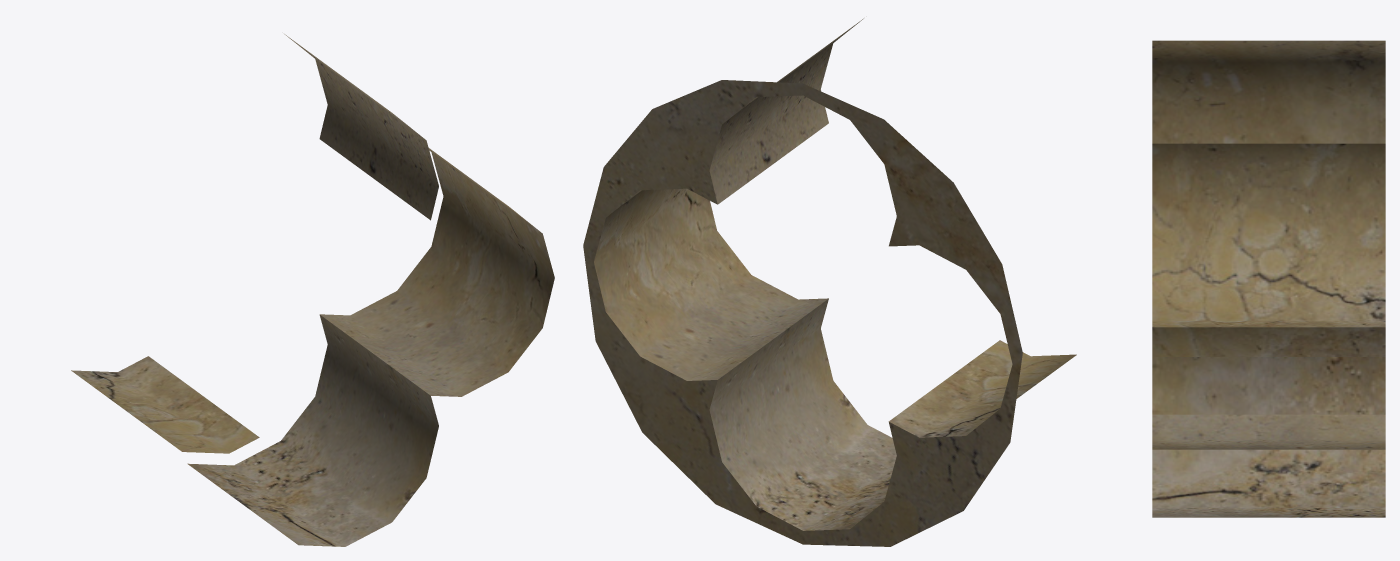
The model's file is Sponza36.gltf.
The picture shows the model from 3 angles, left to right: view 1: azimuth 30°, elevation 25°; view 2: azimuth 150°, elevation 25°; view 3: azimuth 270°, elevation 25°; orthographic projection. The views are drawn at different scales.
Size of the model in its own units: 0.2828 by 0.2834 by 0.124.
Materials: 1 (1 with a texture image).
